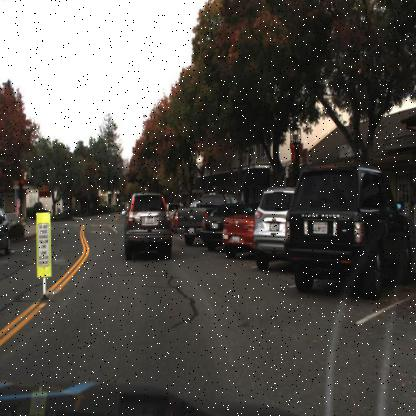car: (284, 161, 414, 305), (119, 189, 174, 263), (251, 184, 292, 273), (176, 190, 235, 246), (219, 199, 255, 258), (200, 200, 228, 248), (0, 199, 12, 259)
